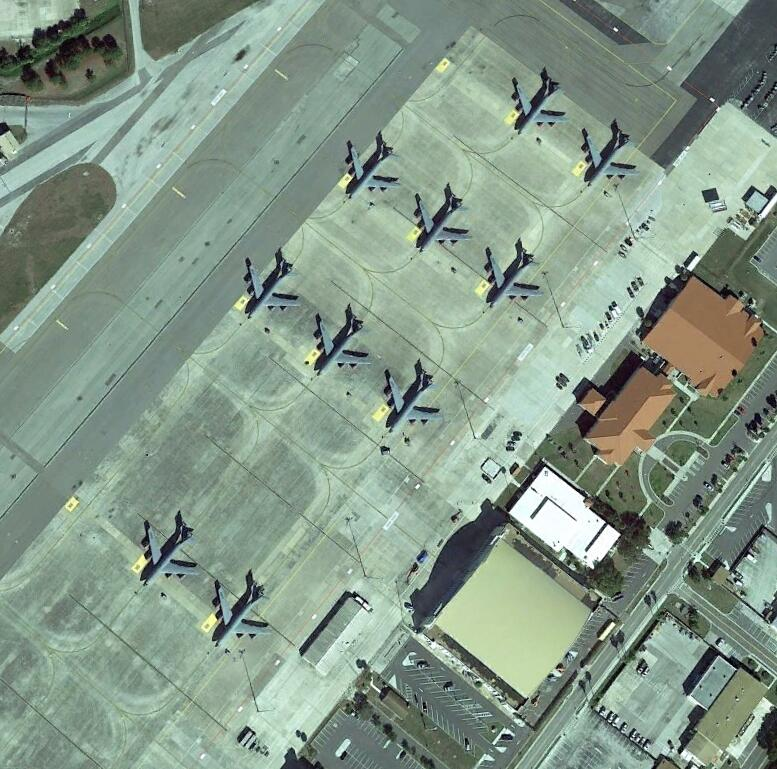A14: (135, 519, 201, 590), (211, 578, 275, 649), (385, 361, 444, 436), (483, 243, 547, 311), (241, 255, 306, 321), (412, 191, 475, 255), (313, 310, 376, 374), (510, 73, 571, 137), (582, 125, 643, 187), (344, 139, 403, 199)
